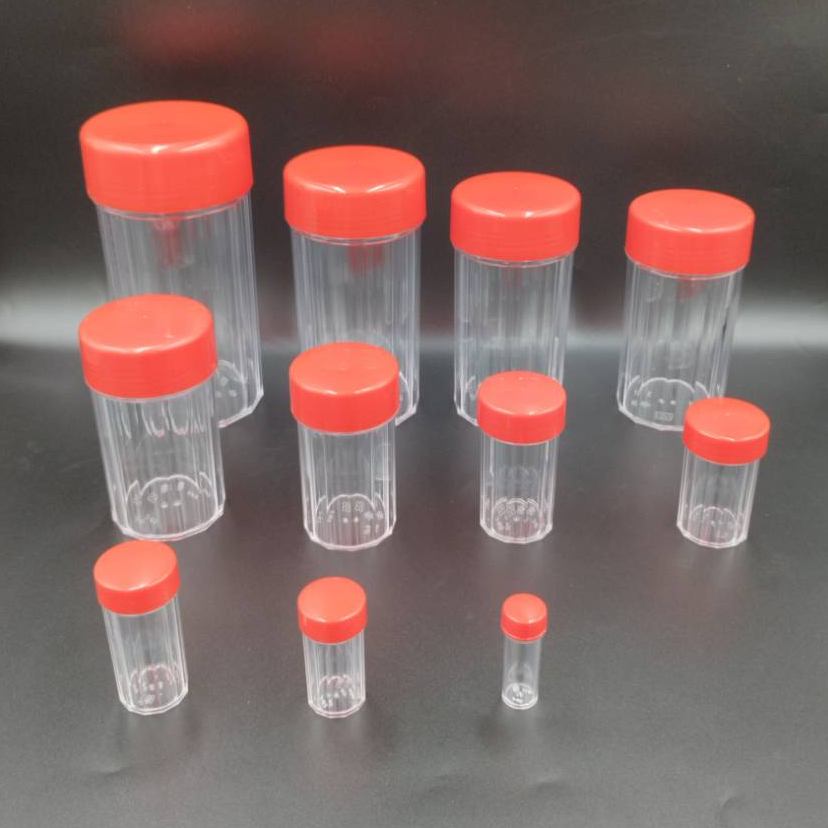medicinejar: (76, 91, 278, 421), (270, 138, 430, 430), (70, 296, 241, 541), (619, 184, 756, 440), (447, 169, 580, 432), (285, 336, 407, 547), (90, 535, 191, 728), (473, 371, 570, 547), (676, 397, 773, 553), (293, 576, 380, 727), (495, 588, 547, 716)
